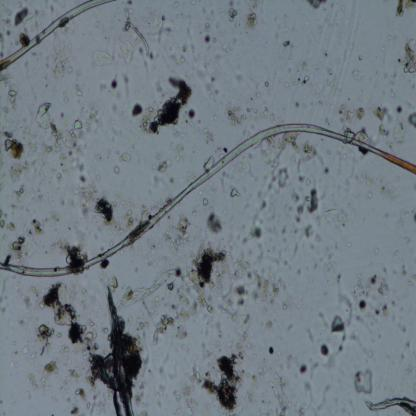Background material: (88, 278, 145, 414), (185, 335, 248, 414), (44, 283, 95, 356), (139, 74, 197, 134), (115, 266, 186, 311), (184, 240, 222, 316), (260, 134, 319, 174), (244, 268, 292, 312), (354, 272, 394, 324), (74, 184, 118, 226), (222, 258, 249, 324), (123, 8, 154, 59), (43, 142, 71, 183), (333, 270, 353, 327), (149, 311, 182, 345), (268, 372, 294, 415), (118, 199, 151, 230), (0, 127, 26, 164), (293, 65, 320, 97), (38, 102, 60, 140), (173, 215, 194, 253), (200, 204, 223, 238), (62, 120, 86, 152), (286, 188, 306, 226), (390, 104, 409, 143), (4, 235, 28, 264), (51, 46, 72, 78), (305, 185, 323, 221), (330, 314, 347, 351), (324, 206, 350, 230), (337, 102, 368, 122), (352, 368, 374, 395), (373, 105, 391, 138), (116, 36, 134, 68), (226, 105, 253, 126), (150, 15, 172, 40), (400, 41, 416, 73), (270, 167, 294, 188), (91, 49, 115, 69), (12, 5, 32, 28), (40, 360, 61, 381), (246, 217, 265, 240), (5, 79, 20, 108), (10, 160, 30, 181), (0, 208, 17, 232), (395, 0, 416, 19), (71, 161, 87, 184), (27, 218, 44, 238), (25, 370, 40, 390), (152, 160, 173, 174), (243, 10, 258, 28), (350, 65, 366, 81), (280, 39, 294, 57), (128, 104, 144, 119), (302, 223, 316, 240), (17, 30, 30, 48), (307, 0, 330, 10), (12, 185, 26, 200), (201, 25, 213, 42), (228, 4, 239, 21), (118, 151, 132, 164), (202, 155, 214, 170), (228, 186, 242, 198), (75, 390, 87, 404), (318, 343, 329, 358), (74, 84, 85, 98), (408, 110, 416, 129), (265, 343, 275, 358), (109, 78, 121, 90), (298, 362, 308, 376), (20, 344, 30, 356), (264, 80, 270, 88)
Cellulose filter fibre: (360, 394, 416, 414), (59, 237, 82, 275)
Microfibre: (0, 122, 416, 278), (0, 0, 114, 71)
